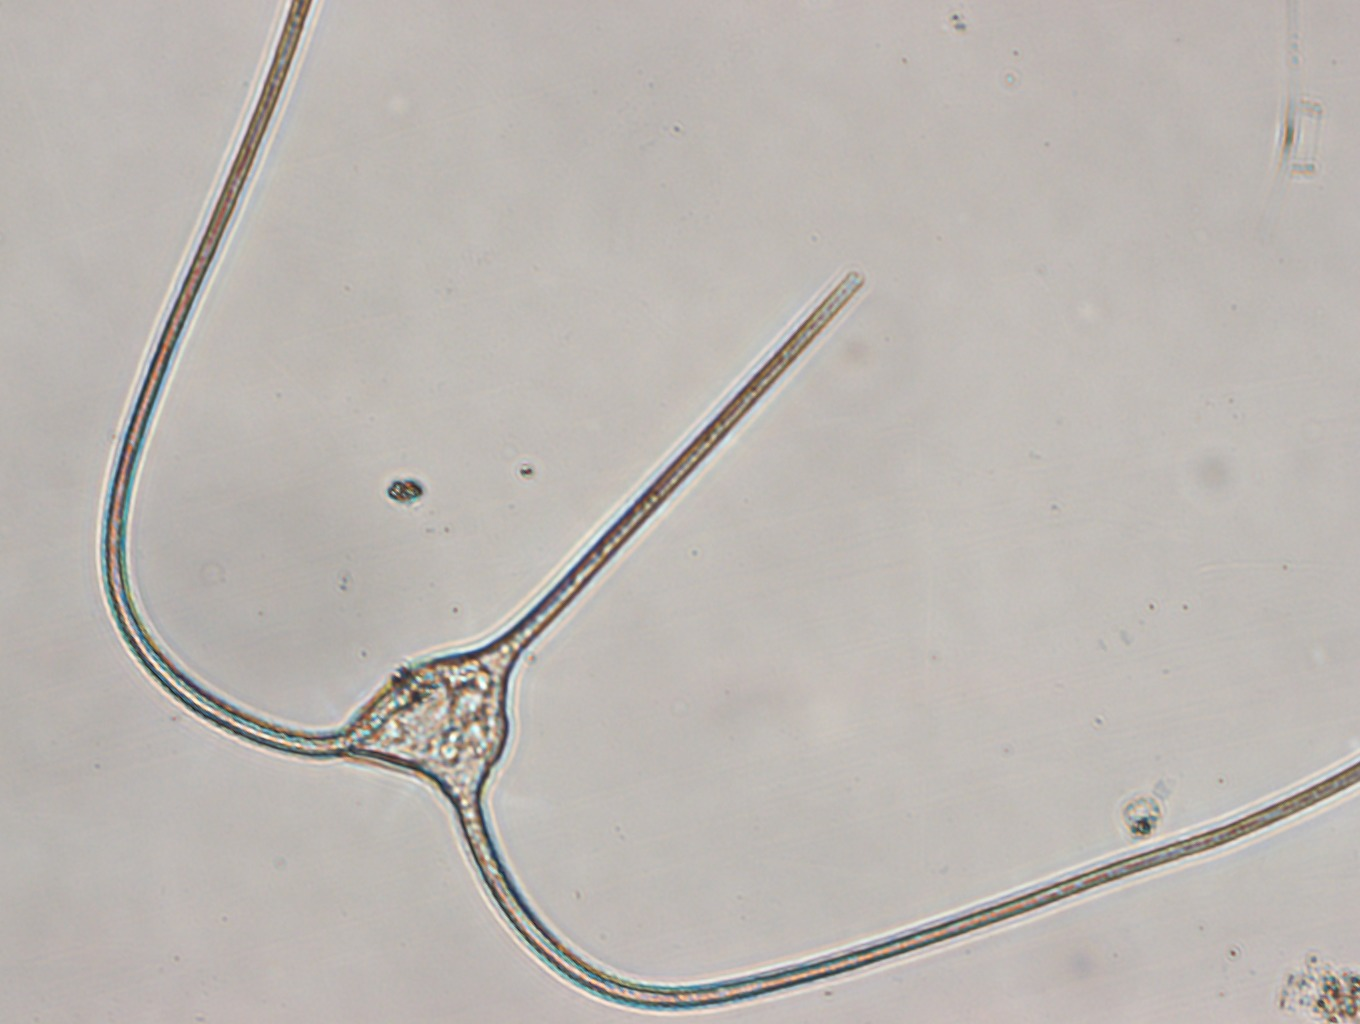ceratium trichoceros: (97, 1, 1360, 1016)
